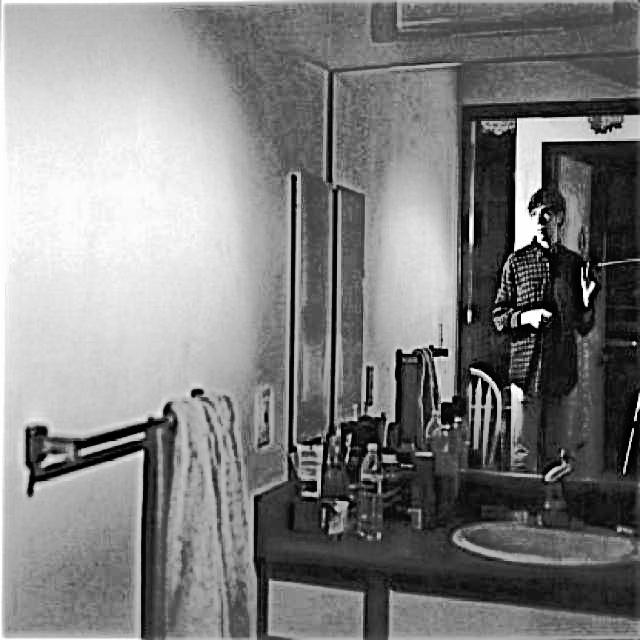Person: (489, 179, 606, 476)
